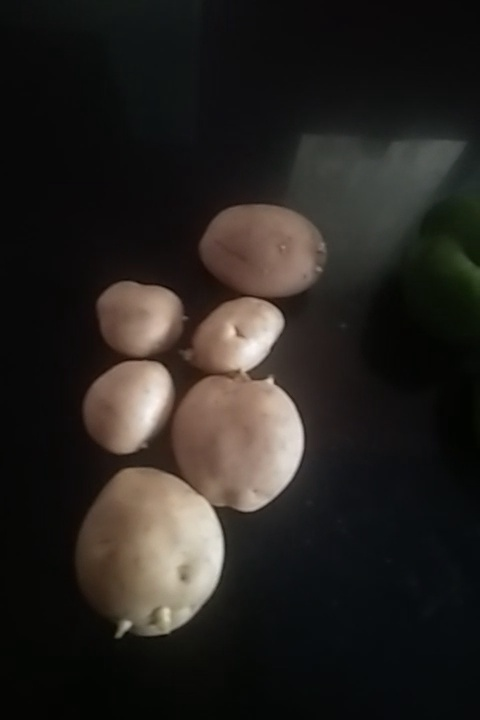capsicum: (404, 200, 480, 348)
potato: (79, 467, 229, 638), (187, 370, 311, 509), (202, 203, 330, 293), (73, 361, 178, 451), (191, 290, 291, 380), (94, 274, 185, 361)
